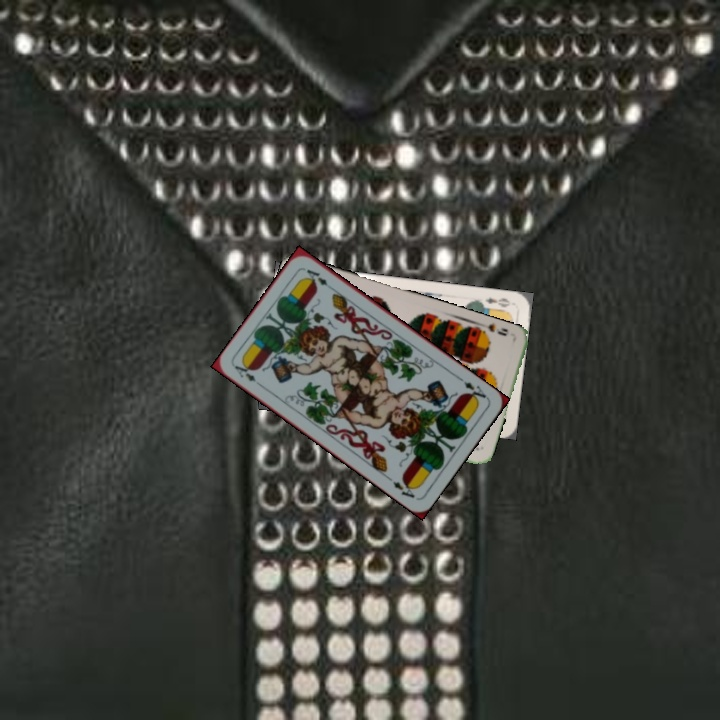EA: (460, 377, 490, 404), (230, 360, 258, 384)
EO: (481, 293, 513, 310)
S9: (474, 320, 511, 340)
